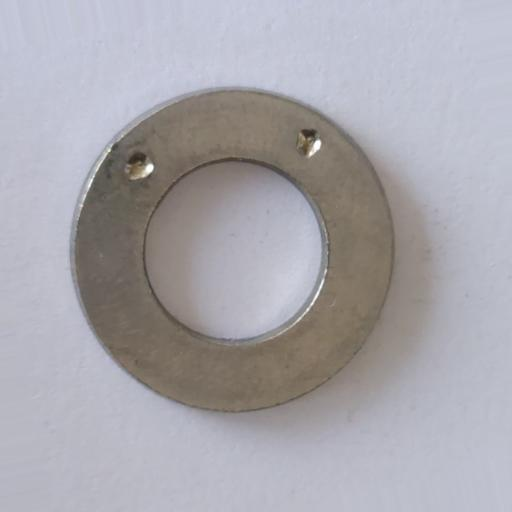circular_cavity: (124, 152, 154, 180), (295, 128, 321, 157)
